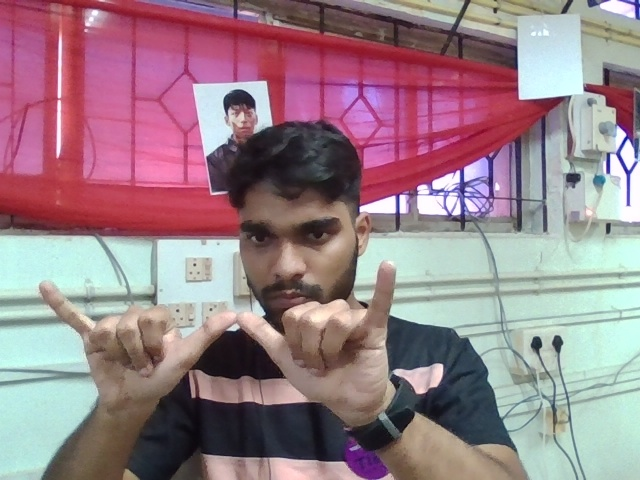play: (36, 256, 410, 433)
